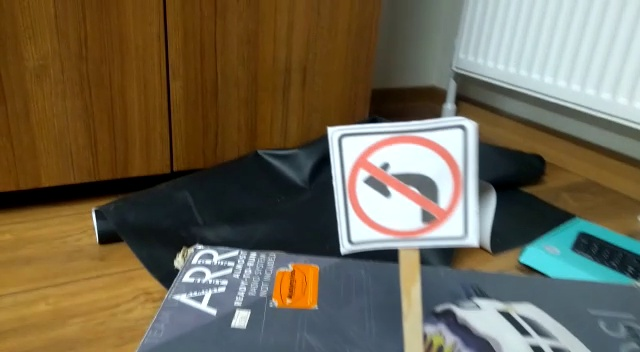sola_donulmez: (345, 123, 470, 246)
